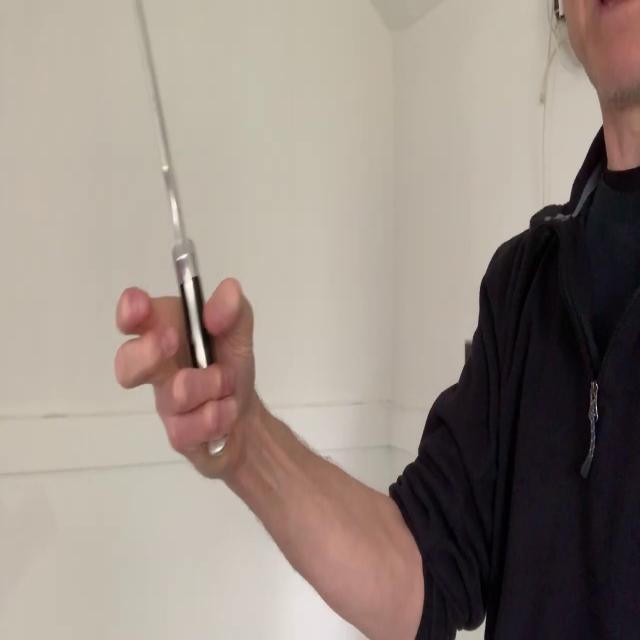Knife_Handle: (115, 0, 256, 481)
